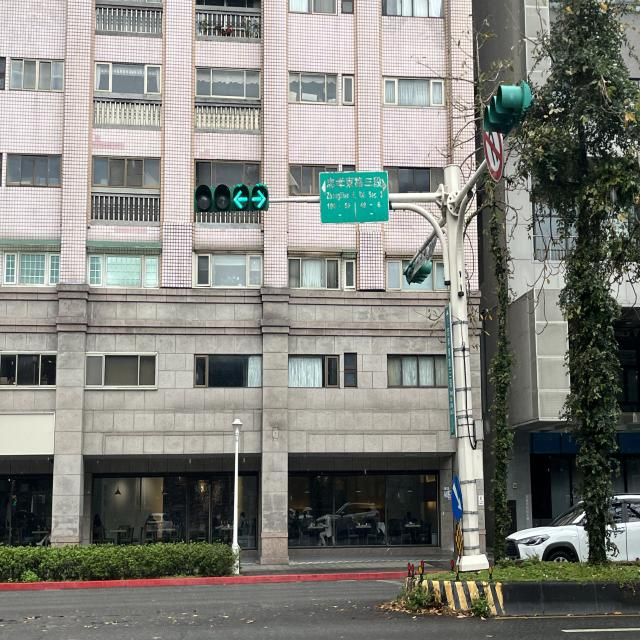green light: (195, 182, 269, 213)
